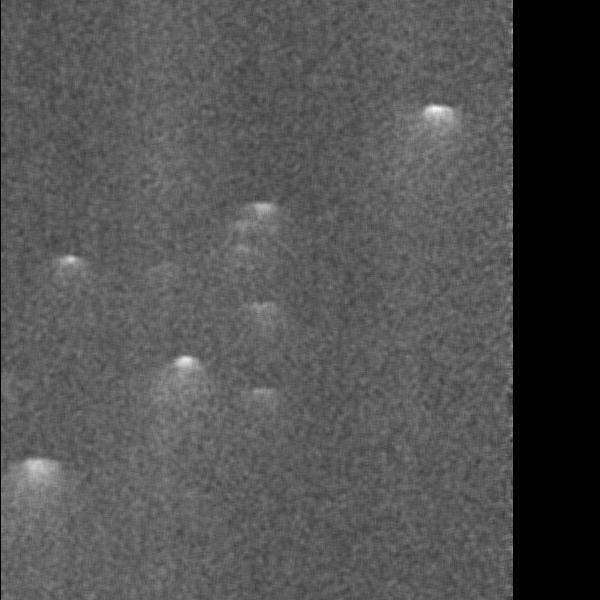spark: (9, 453, 65, 537), (417, 94, 460, 167), (161, 349, 206, 402), (236, 298, 286, 337), (244, 193, 281, 245), (241, 383, 287, 412), (55, 251, 86, 279), (232, 240, 256, 258)
